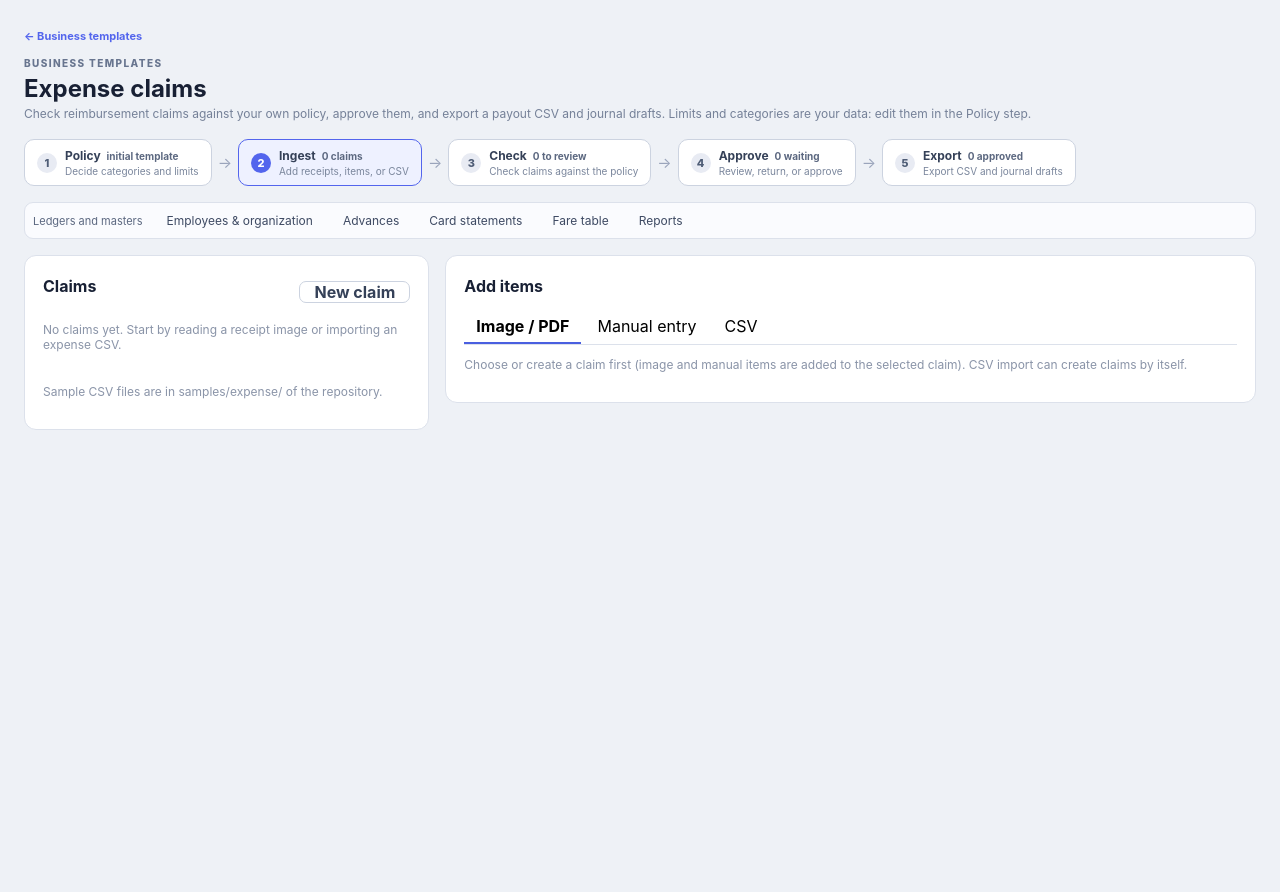
Test: ExpensePage › 正常: 系統の API から準備状況を読み、振込元は A より B（お金の流れ）の値を優先する
The image size is (1280, 892).
What coordinates should you click on to do the following:
click the tab "Policy"
I would click on:
 (118, 162)
Its box is 24,139 -> 212,186.
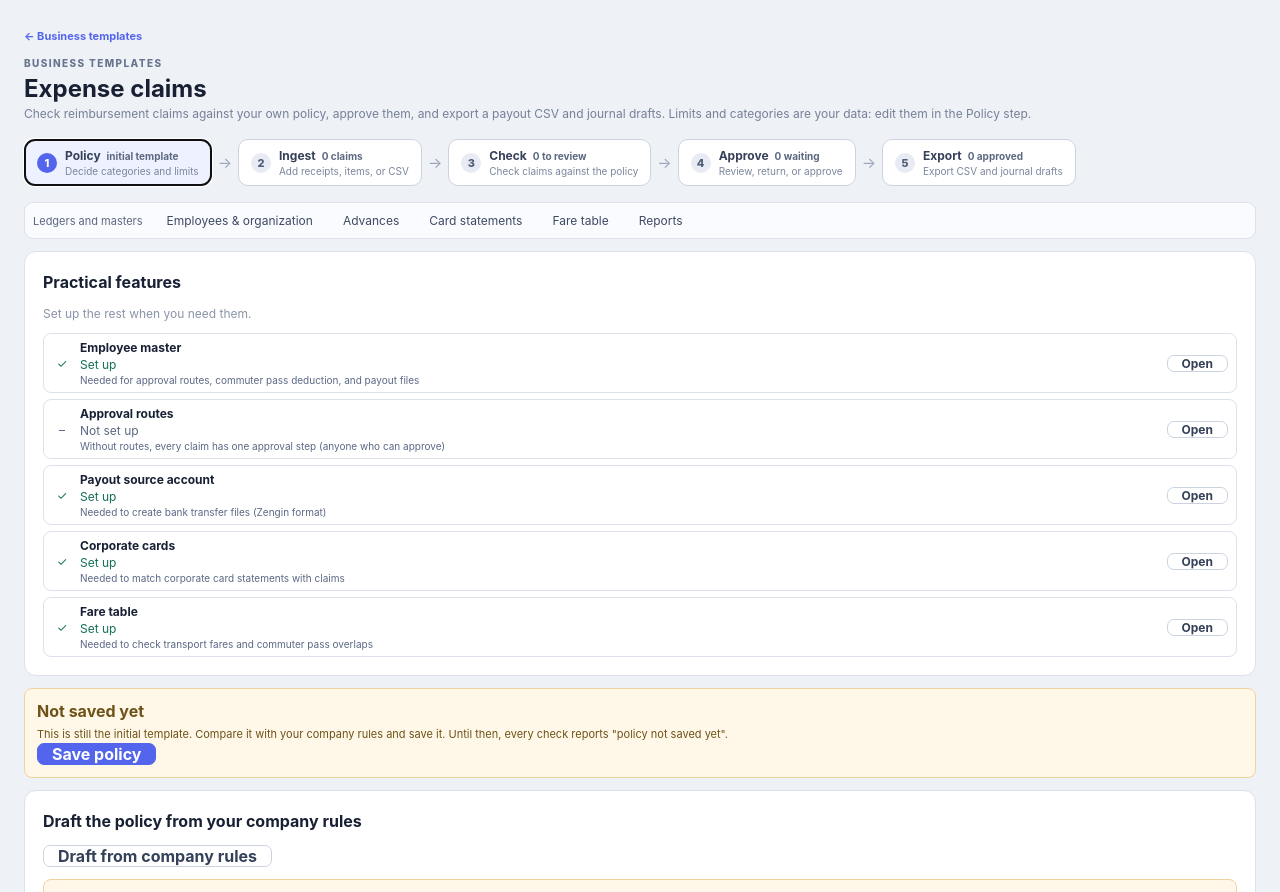
Expected: the text "Set up" is shown 4 times, 80,357 -> 116,372; 80,489 -> 116,504; 80,555 -> 116,570; 80,621 -> 116,636
Expected: the text "Not set up" is shown once, 80,423 -> 139,438
